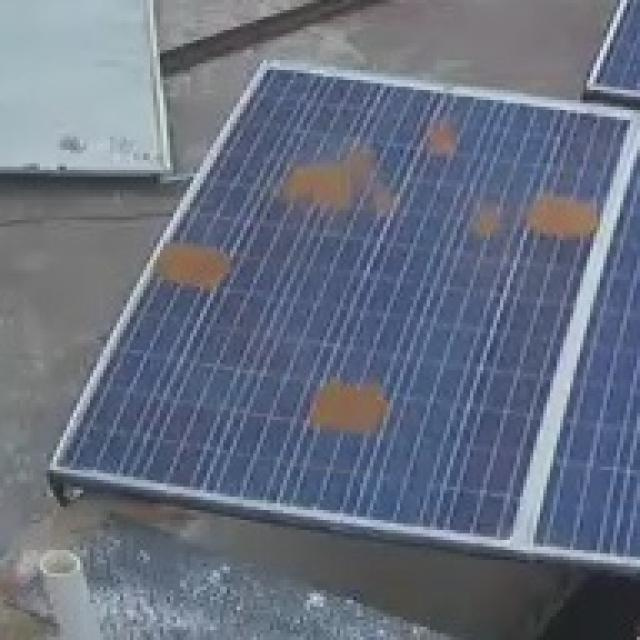Dusty: (276, 134, 400, 226), (289, 367, 395, 434), (524, 186, 605, 248), (153, 239, 235, 299), (421, 112, 472, 164), (468, 200, 511, 238)
